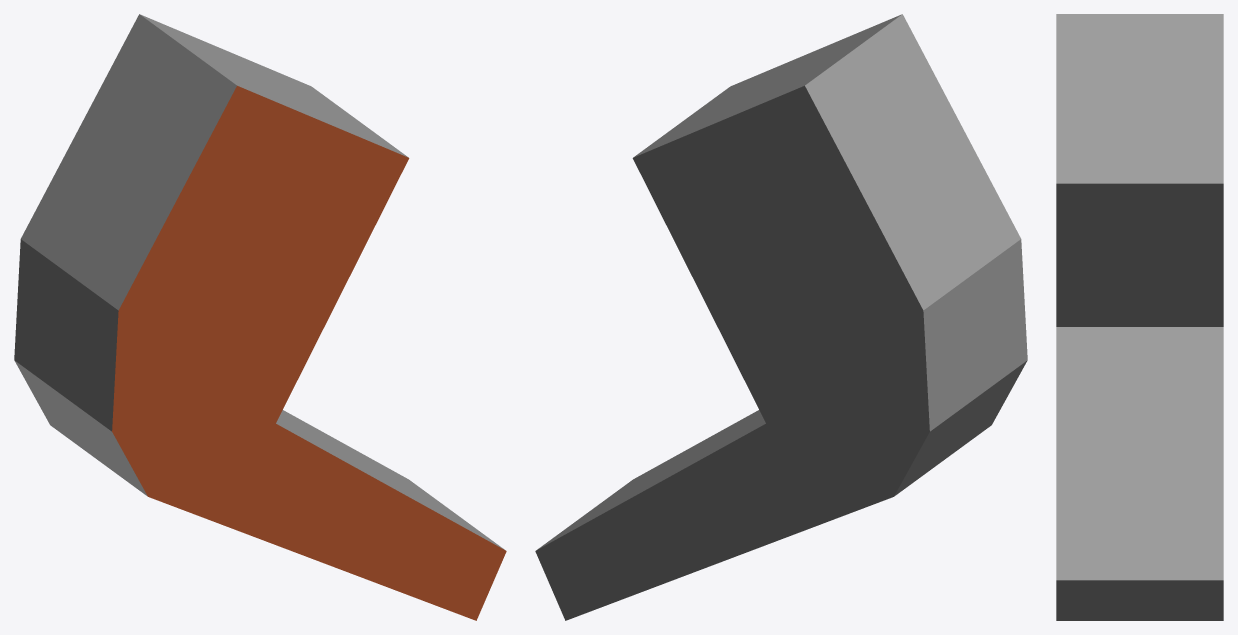
The model's file is construction_2895_assumed_A_Casa_h6m.obj.
The picture shows the model from 3 angles, left to right: view 1: azimuth 30°, elevation 25°; view 2: azimuth 150°, elevation 25°; view 3: azimuth 270°, elevation 25°; orthographic projection. The views are drawn at different scales.
Parts seen in each view (by area): view 1: construction_2895_assumed_A_Casa; view 2: construction_2895_assumed_A_Casa; view 3: construction_2895_assumed_A_Casa.
Part boxes in pixels (<box>): construction_2895_assumed_A_Casa: <box>14,14,506,620</box>; construction_2895_assumed_A_Casa: <box>535,14,1027,620</box>; construction_2895_assumed_A_Casa: <box>1056,14,1223,620</box>.
Size of the model in its own units: 13.97 by 20.08 by 6.
